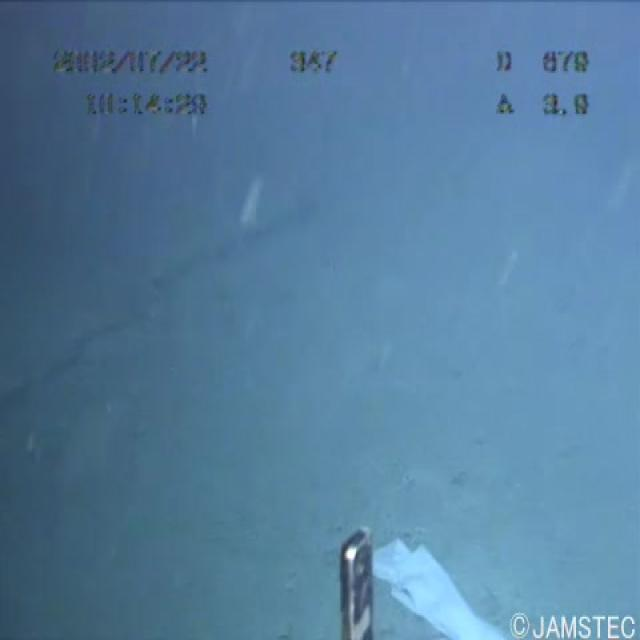plastic: (372, 526, 517, 638)
